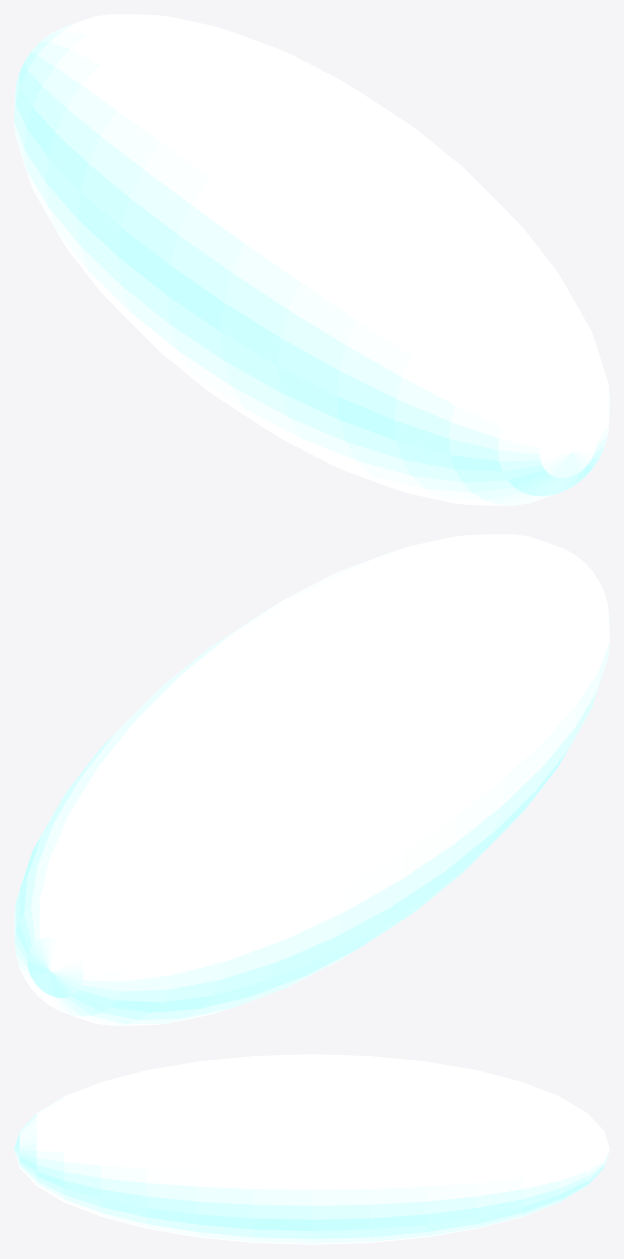
Rendered from player_bullet.glb.
The picture shows the model from 3 angles, top to bottom: view 1: azimuth 30°, elevation 25°; view 2: azimuth 150°, elevation 25°; view 3: azimuth 270°, elevation 25°; orthographic projection. The views are drawn at different scales.
Visible parts, largest first — view 1: bullet; view 2: bullet; view 3: bullet.
Part boxes in pixels (left/top/right/bottom): bullet: left=14, top=14, right=609, bottom=505; bullet: left=14, top=534, right=609, bottom=1025; bullet: left=14, top=1054, right=609, bottom=1244.
Bounding box in the file's own units: 0.16 × 0.16 × 0.5.
